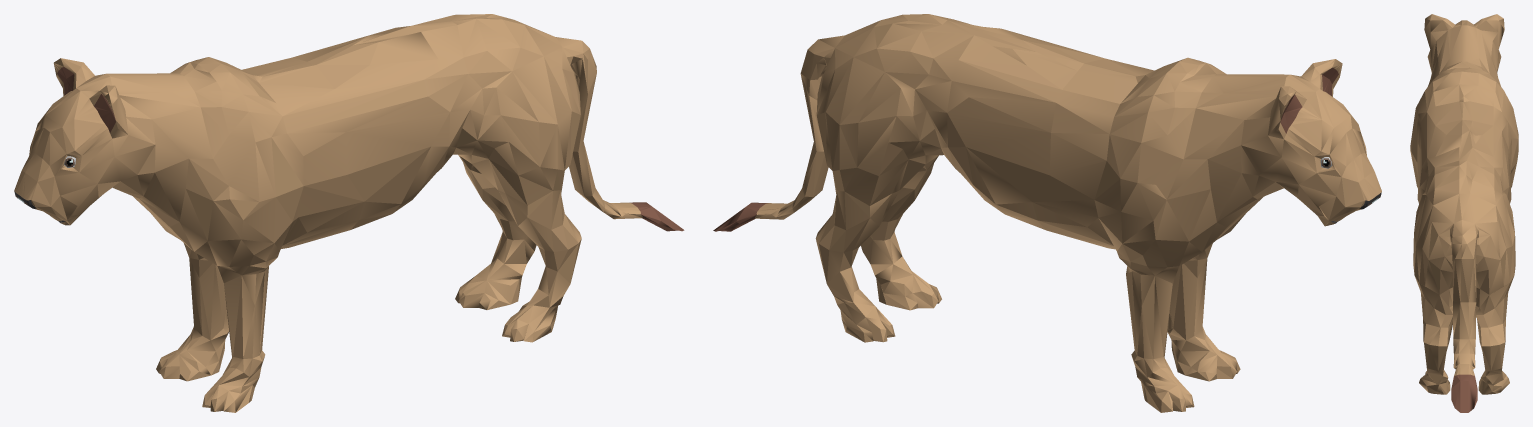
Rendered from lionA.gltf.
3 renders of one model, left to right at view 1: azimuth 30°, elevation 25°; view 2: azimuth 150°, elevation 25°; view 3: azimuth 270°, elevation 25°, orthographic. The views are drawn at different scales.
Parts seen in each view (by area): view 1: Lion001; view 2: Lion001; view 3: Lion001.
Boxes of the visible parts, bbox=[...] form: Lion001: bbox=[14, 14, 684, 412]; Lion001: bbox=[713, 14, 1381, 412]; Lion001: bbox=[1410, 14, 1518, 412].
Size of the model in its own units: 196 by 97.76 by 41.1.
